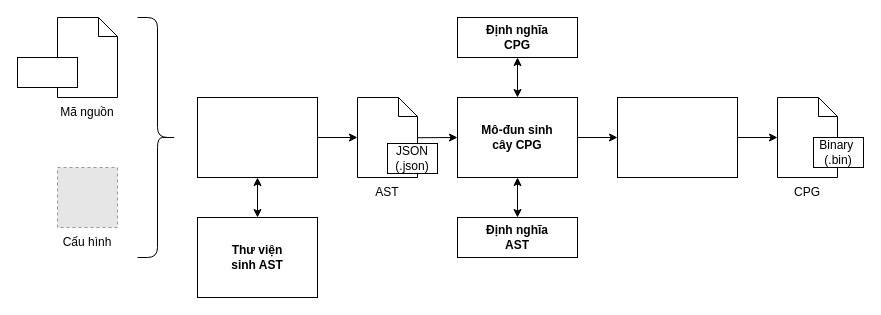
Image size: 881x315. Some labels were removed from this diagram. Grey dashed boxes stand in for pictures. Here are the shapes that lost their labels. From the top down, the centre of each, then its label:
At (x=47, y=72): "Rust (.rs)".
At (x=257, y=137): "Mô-đun phân tích mã nguồn".
At (x=677, y=137): "Joern Backend".
